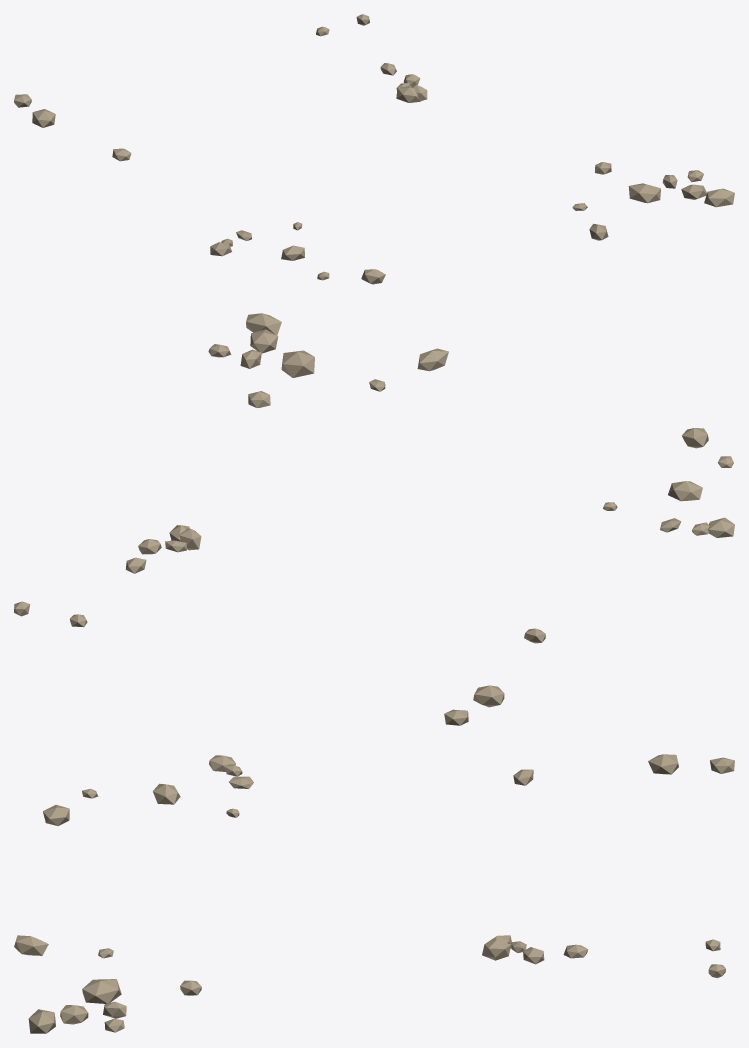
File: HillStones.glb
3 views of the same model, one above another, from view 1: azimuth 30°, elevation 25°; view 2: azimuth 150°, elevation 25°; view 3: azimuth 270°, elevation 25° (orthographic). The views are drawn at different scales.
Visible parts, largest first — view 1: Hill weathered stones.001; view 2: Hill weathered stones.001; view 3: Hill weathered stones.001.
Part boxes in pixels (bbox=[...]): Hill weathered stones.001: bbox=[14, 14, 734, 284]; Hill weathered stones.001: bbox=[14, 313, 734, 725]; Hill weathered stones.001: bbox=[14, 754, 734, 1033].
Size of the model in its own units: 11.83 by 0.4597 by 13.21.
